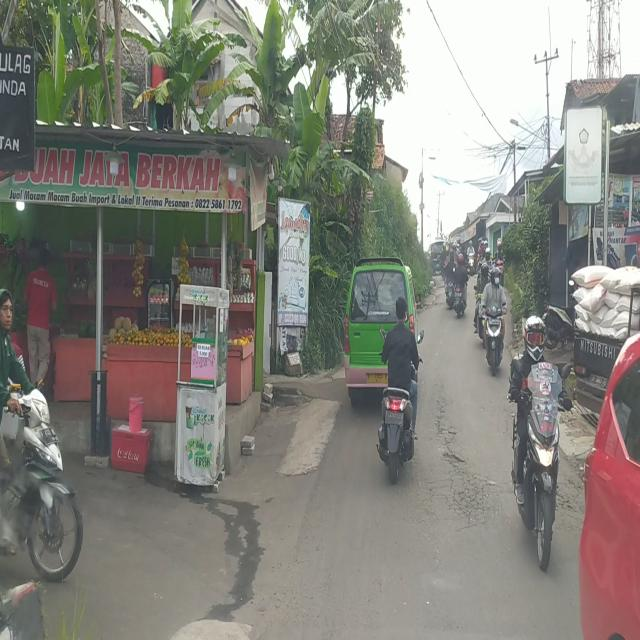Drain Hole: (428, 385, 498, 528), (553, 477, 585, 517)
